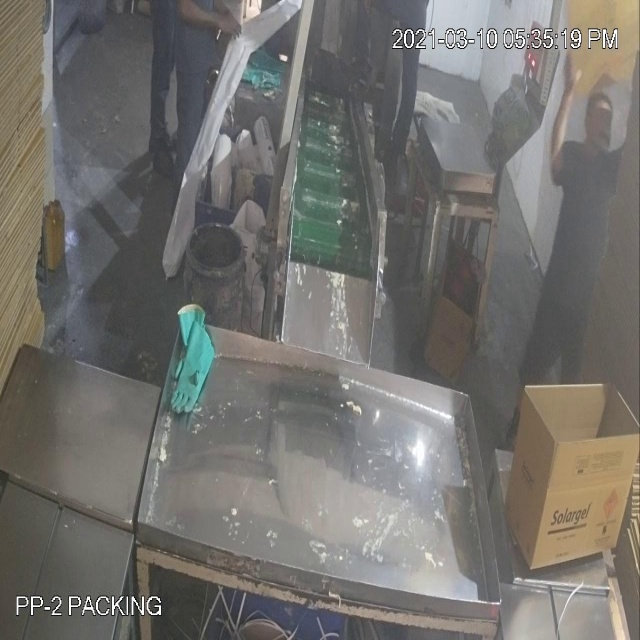Sin_guantes: (547, 40, 586, 189), (176, 1, 247, 49)
